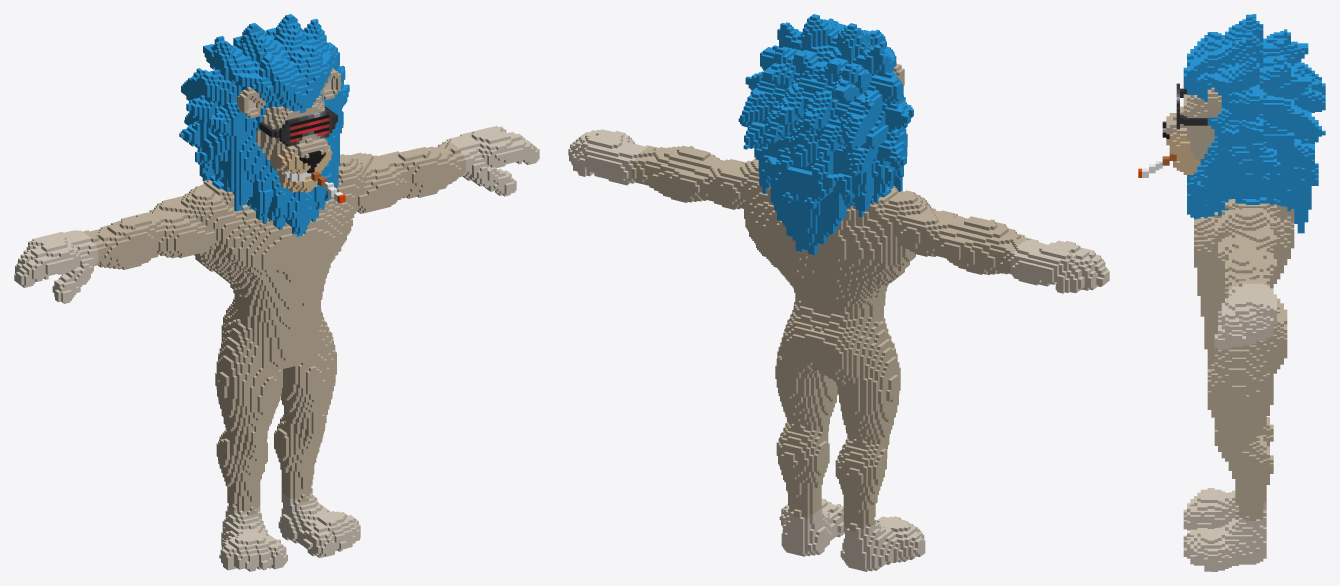
File: 693-DLJwFpEp.glb
The picture shows the model from 3 angles, left to right: view 1: azimuth 30°, elevation 25°; view 2: azimuth 150°, elevation 25°; view 3: azimuth 270°, elevation 25°; orthographic projection. The views are drawn at different scales.
Parts seen in each view (by area): view 1: cigarette; view 2: cigarette; view 3: cigarette.
Boxes of the visible parts, box(x1,y1,x2,y2) form: cigarette: box(14, 14, 539, 571); cigarette: box(568, 14, 1109, 571); cigarette: box(1138, 14, 1325, 571).
Size of the model in its own units: 17.2 by 16.5 by 5.4.
4 materials, 4 textured.
